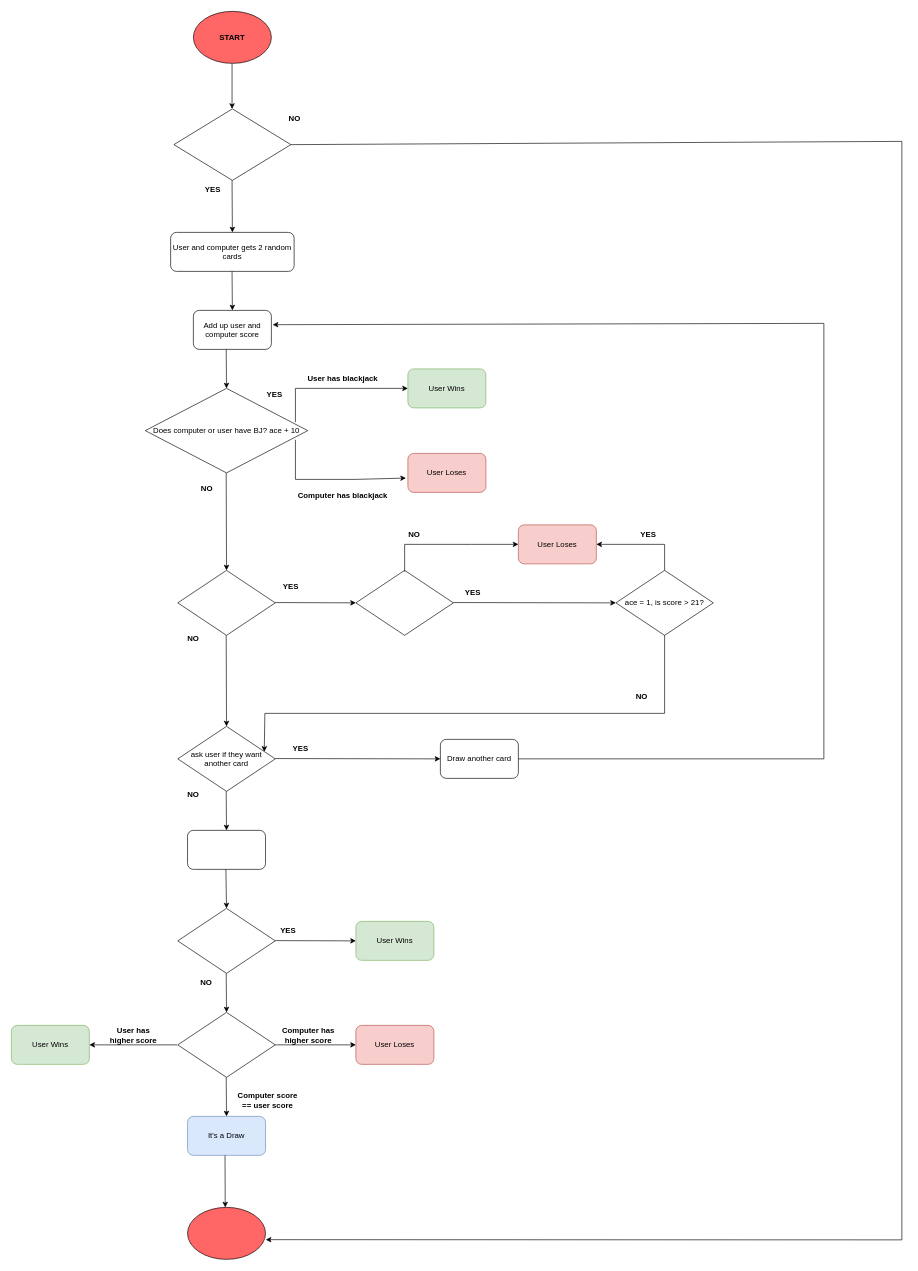
This 918x1271 diagram has some shape labels left out. The shapes that lost their labels are listed below. From the top down, each one's centre as x and y in pixels, then its label:
At pixel 232 144: "Ask user if they want to play".
At pixel 226 602: "is user score over 21?".
At pixel 404 602: "do they have an ace?".
At pixel 226 849: "Computer plays until score > 17".
At pixel 226 940: "computer score > 21?".
At pixel 226 1044: "compare computer and user score".
At pixel 226 1233: "END".
